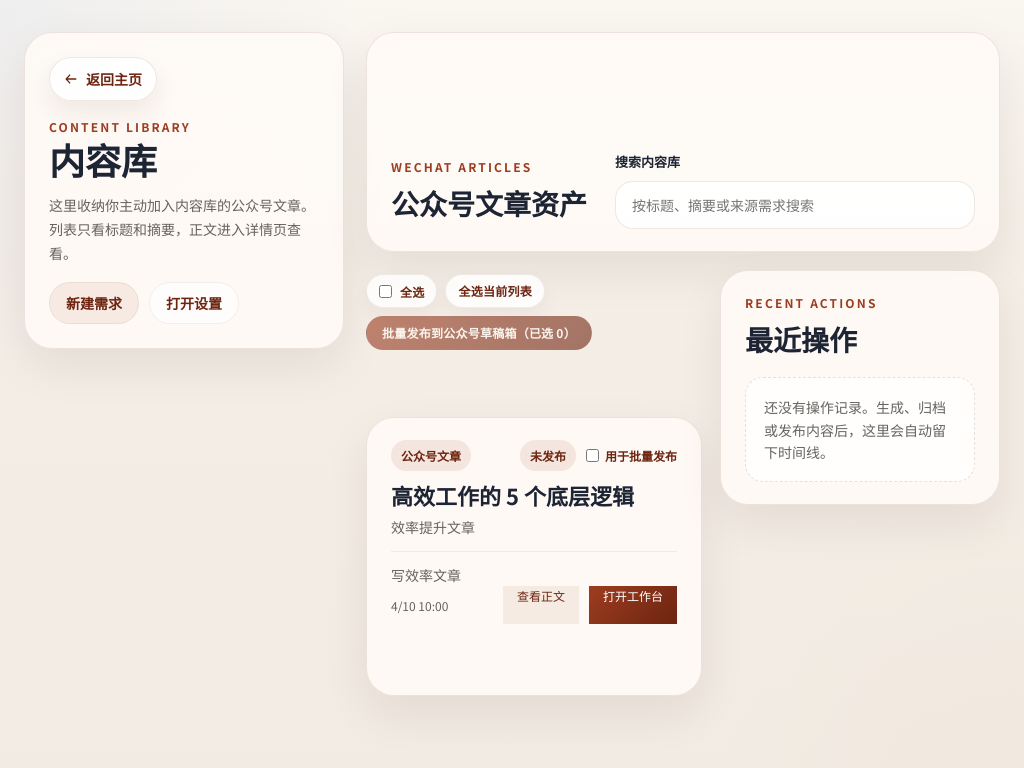
Test: WechatLibraryShell › supports selecting items and batch publishing from content library
Click the checkbox named "勾选发布 高效工作的 5 个底层逻辑" at coordinates (592, 456), box [586,449,599,462]
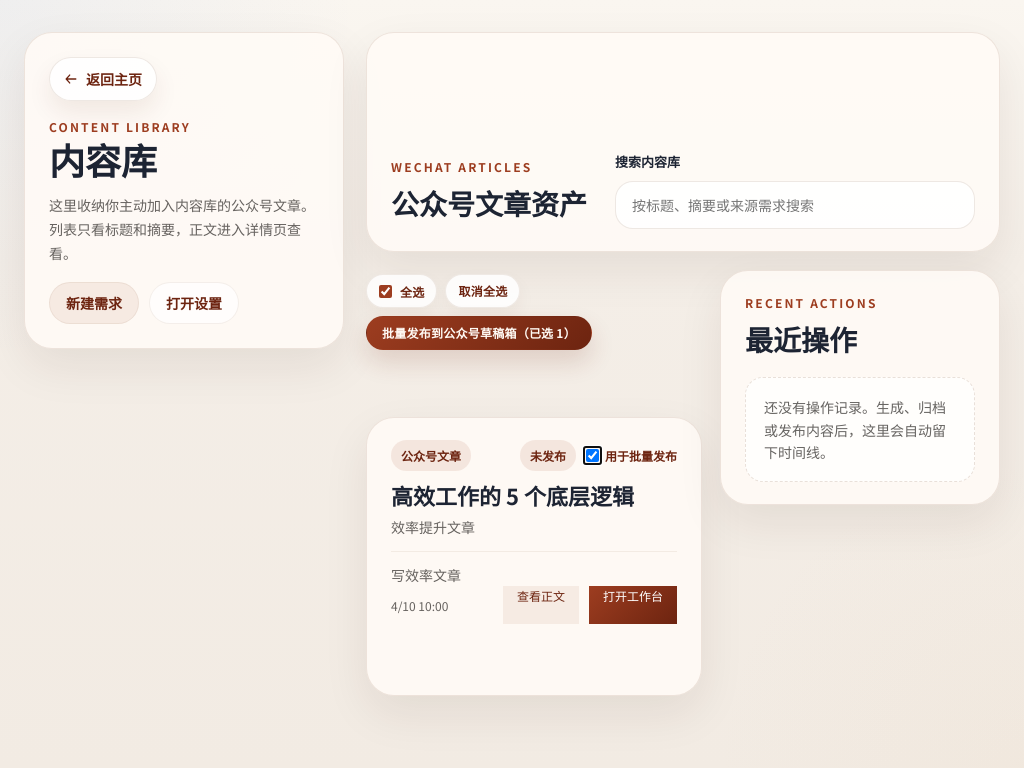
Click the button "批量发布到公众号草稿箱（已选 1）" at coordinates (479, 333), box [366,316,592,350]
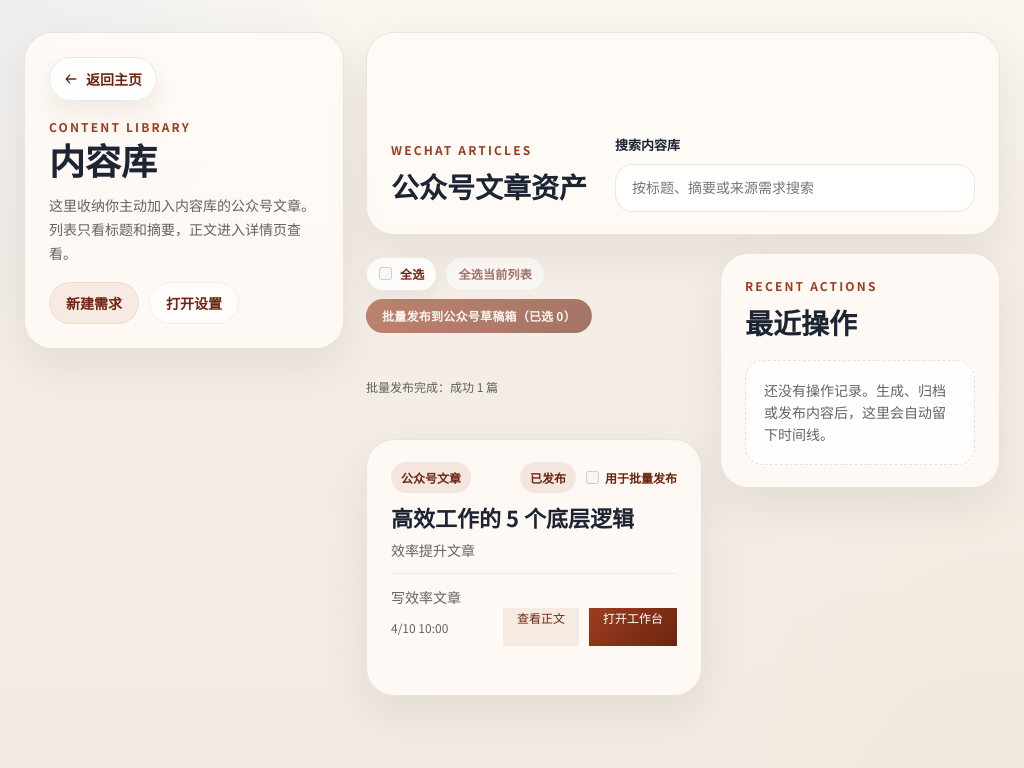
expect the text "批量发布完成：成功 1 篇" is shown: met, box [366,378,498,395]
expect the text "已发布" is shown: met, box [520,462,576,493]
